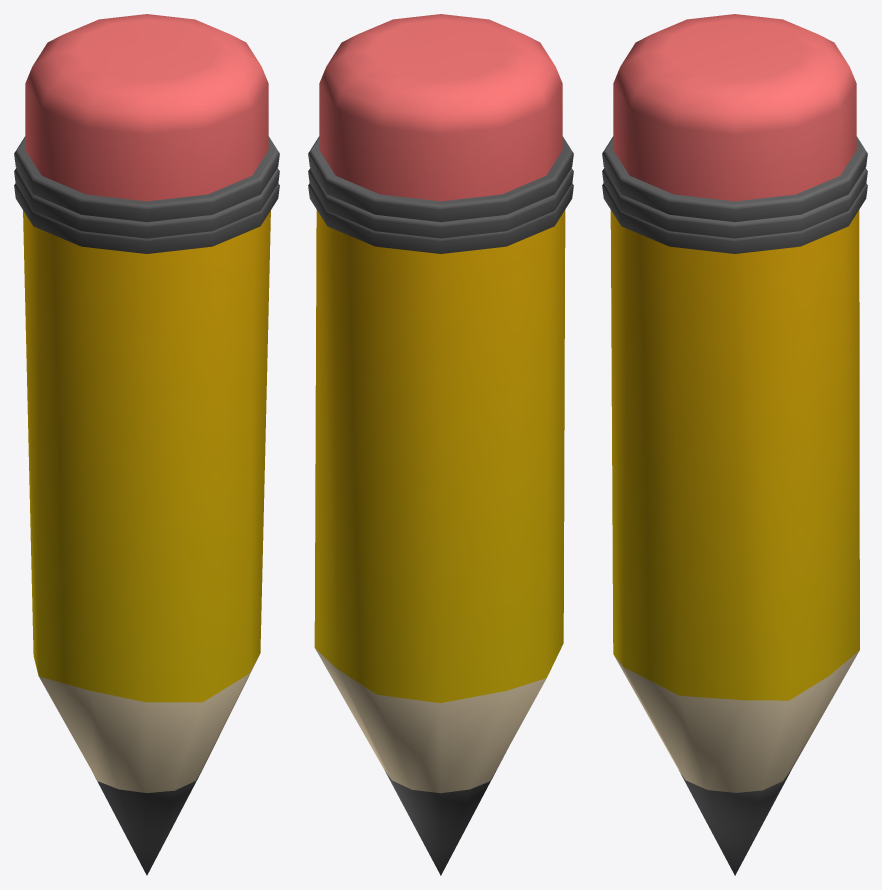
Rendered from Pencill_1.glb.
3 renders of one model, left to right at view 1: azimuth 30°, elevation 25°; view 2: azimuth 150°, elevation 25°; view 3: azimuth 270°, elevation 25°, orthographic.
Visible parts, largest first — view 1: Pencill_1; view 2: Pencill_1; view 3: Pencill_1.
Boxes of the visible parts, bbox=[...] form: Pencill_1: bbox=[14, 14, 279, 875]; Pencill_1: bbox=[308, 14, 573, 875]; Pencill_1: bbox=[602, 14, 867, 875].
Size of the model in its own units: 0.0146 by 0.0501 by 0.0146.
Materials: 1 (1 with a texture image).
